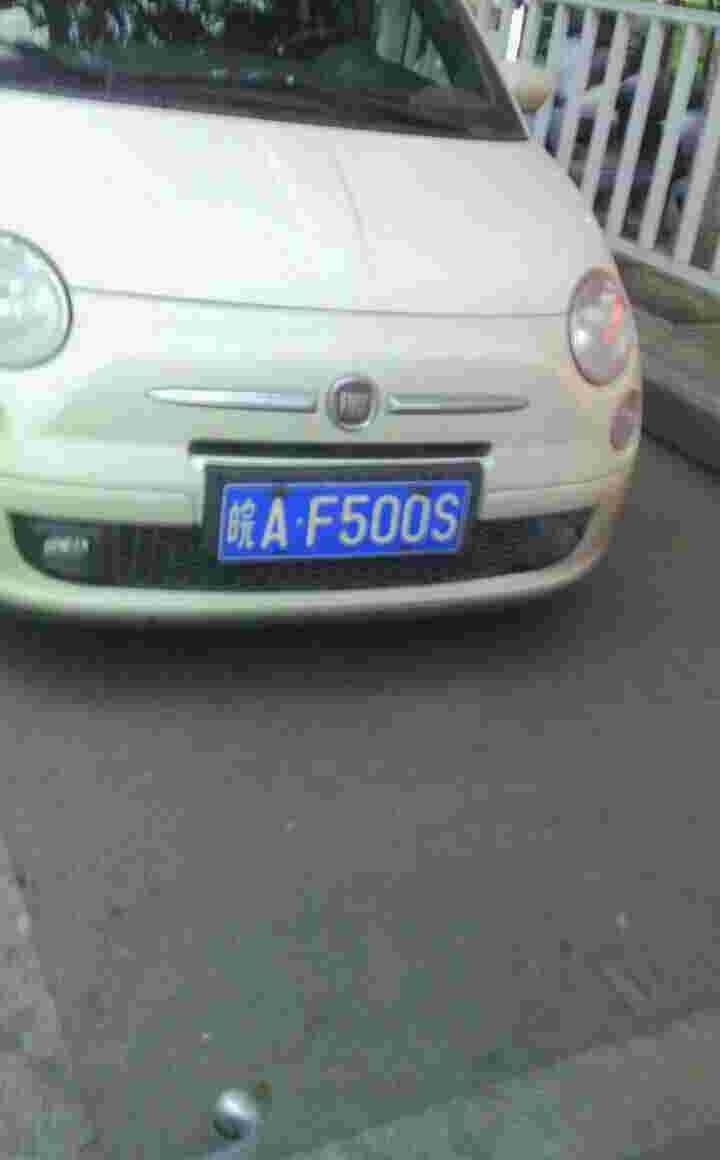plate: (222, 476, 476, 565)
